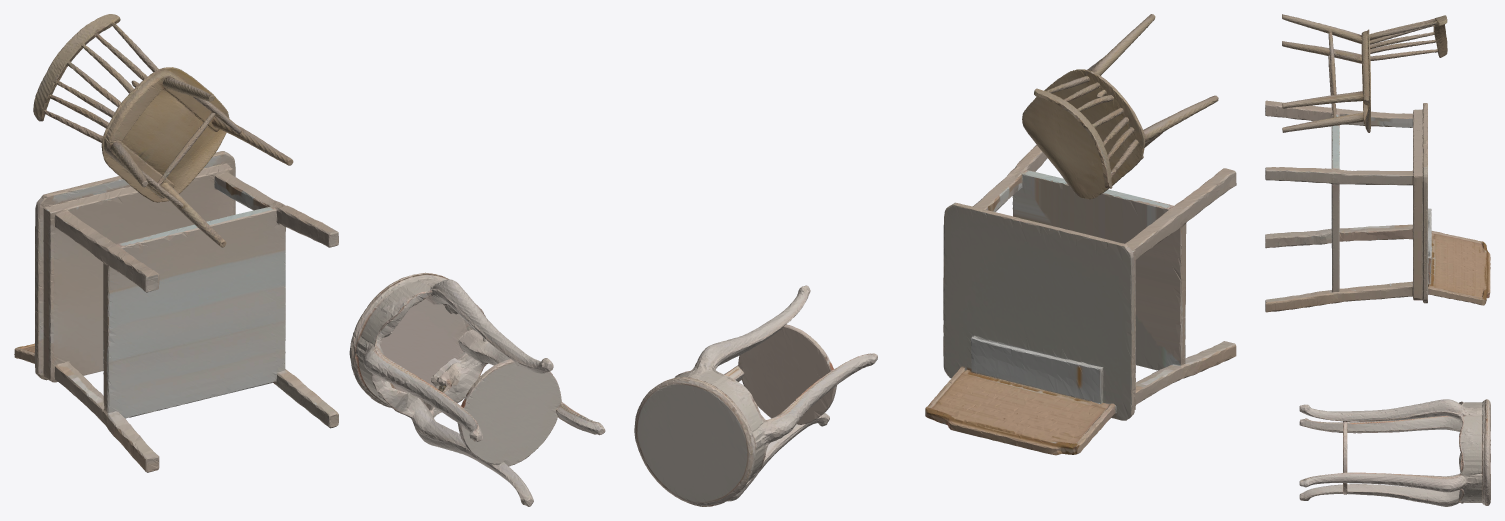
3 views of the same model, side by side, from view 1: azimuth 30°, elevation 25°; view 2: azimuth 150°, elevation 25°; view 3: azimuth 270°, elevation 25° (orthographic). The views are drawn at different scales.
Visible parts, largest first — view 1: scene_0000018_object_1_textured_scene_0000018_object_1_textu, scene_0000018_object_2_textured_scene_0000018_object_2_textu, scene_0000018_object_0_textured_scene_0000018_object_0_textu; view 2: scene_0000018_object_1_textured_scene_0000018_object_1_textu, scene_0000018_object_2_textured_scene_0000018_object_2_textu, scene_0000018_object_0_textured_scene_0000018_object_0_textu; view 3: scene_0000018_object_1_textured_scene_0000018_object_1_textu, scene_0000018_object_2_textured_scene_0000018_object_2_textu, scene_0000018_object_0_textured_scene_0000018_object_0_textu.
Part boxes in pixels (box(x1,y1,x2,y2)): scene_0000018_object_1_textured_scene_0000018_object_1_textu: box(14, 151, 338, 472); scene_0000018_object_2_textured_scene_0000018_object_2_textu: box(349, 272, 605, 506); scene_0000018_object_0_textured_scene_0000018_object_0_textu: box(33, 14, 293, 247); scene_0000018_object_1_textured_scene_0000018_object_1_textu: box(925, 145, 1236, 455); scene_0000018_object_2_textured_scene_0000018_object_2_textu: box(634, 285, 877, 506); scene_0000018_object_0_textured_scene_0000018_object_0_textu: box(1022, 14, 1218, 199); scene_0000018_object_1_textured_scene_0000018_object_1_textu: box(1265, 100, 1490, 312); scene_0000018_object_2_textured_scene_0000018_object_2_textu: box(1299, 399, 1490, 506); scene_0000018_object_0_textured_scene_0000018_object_0_textu: box(1282, 14, 1447, 132).
Bounding box in the file's own units: 2.29 × 2.26 × 1.24.
Materials: 3 (3 with a texture image).
